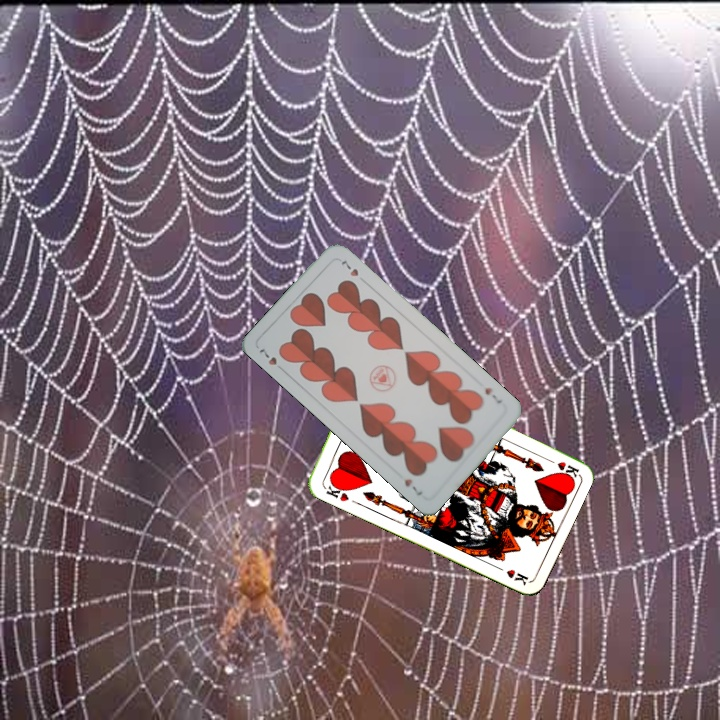H7: (255, 345, 288, 375), (481, 383, 504, 406)
HK: (541, 453, 581, 480), (322, 478, 352, 504)
